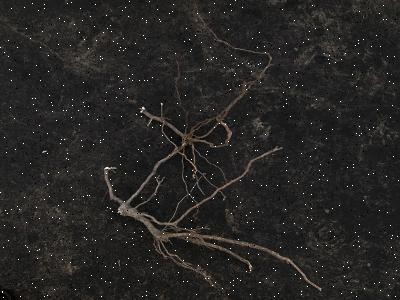Root: (104, 75, 321, 290)
